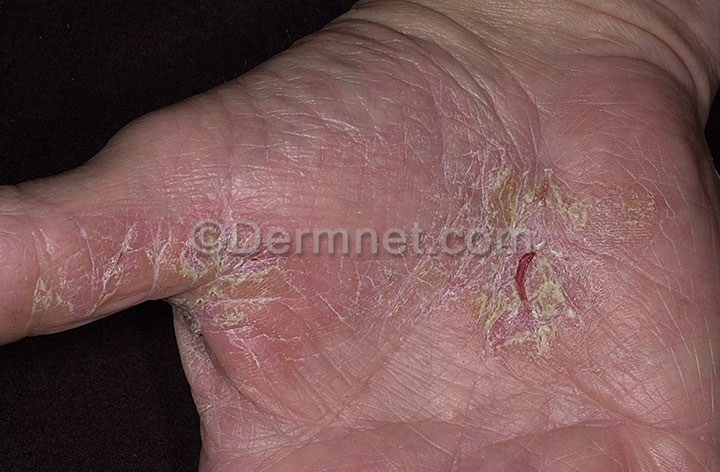Psoriasis: (419, 134, 675, 368), (157, 205, 314, 349), (30, 218, 166, 295)
